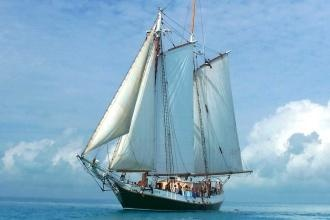fanchuan: (74, 1, 250, 207)
